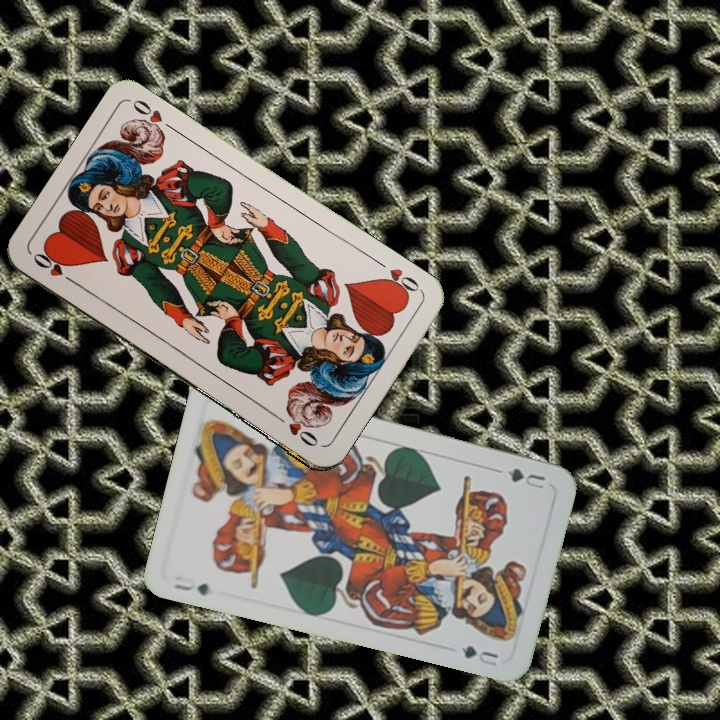GU: (503, 464, 548, 492), (169, 571, 211, 599)
HO: (371, 255, 424, 300), (28, 248, 81, 288)
